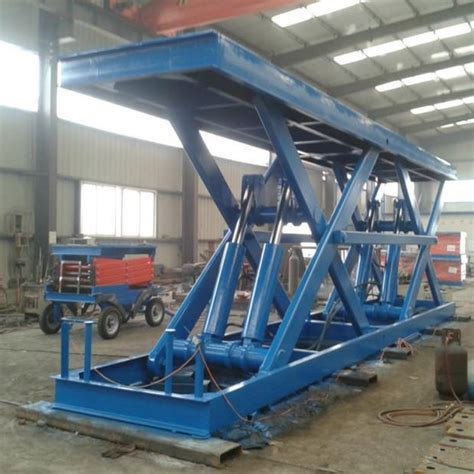Scissor Lift: (34, 26, 459, 442)
